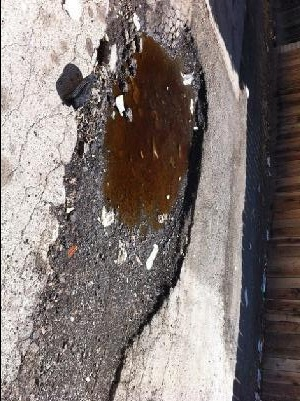pothole: (18, 13, 211, 352)
